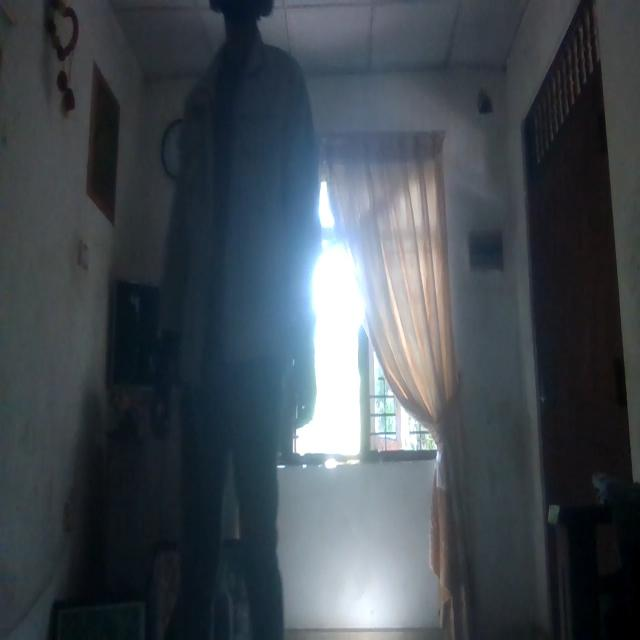Jacket_Wearer: (167, 40, 321, 419)
Person: (160, 0, 323, 620)
